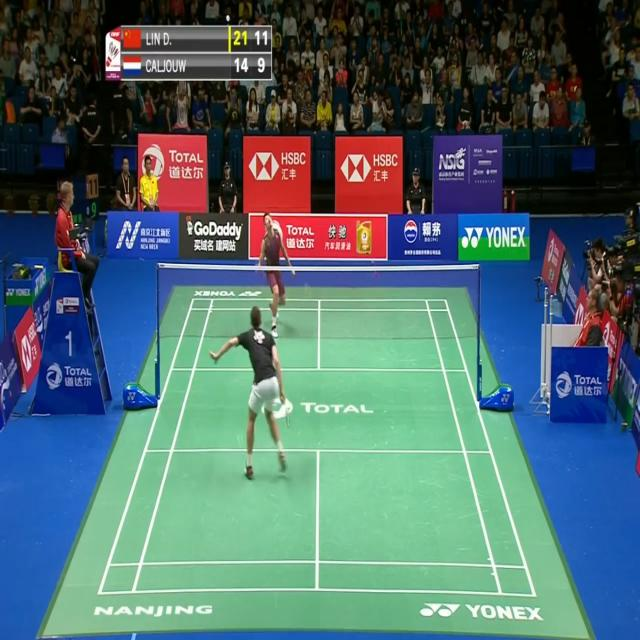Player1: (206, 302, 294, 484)
Player2: (253, 210, 317, 340)
